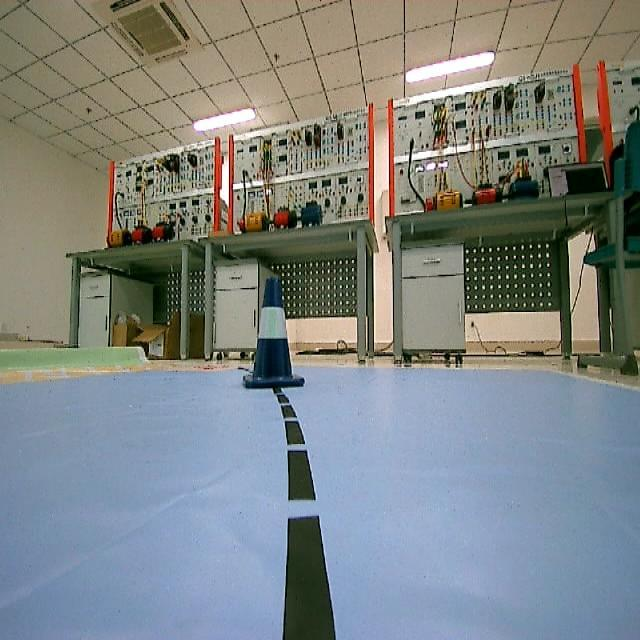obstacle: (237, 274, 312, 391)
